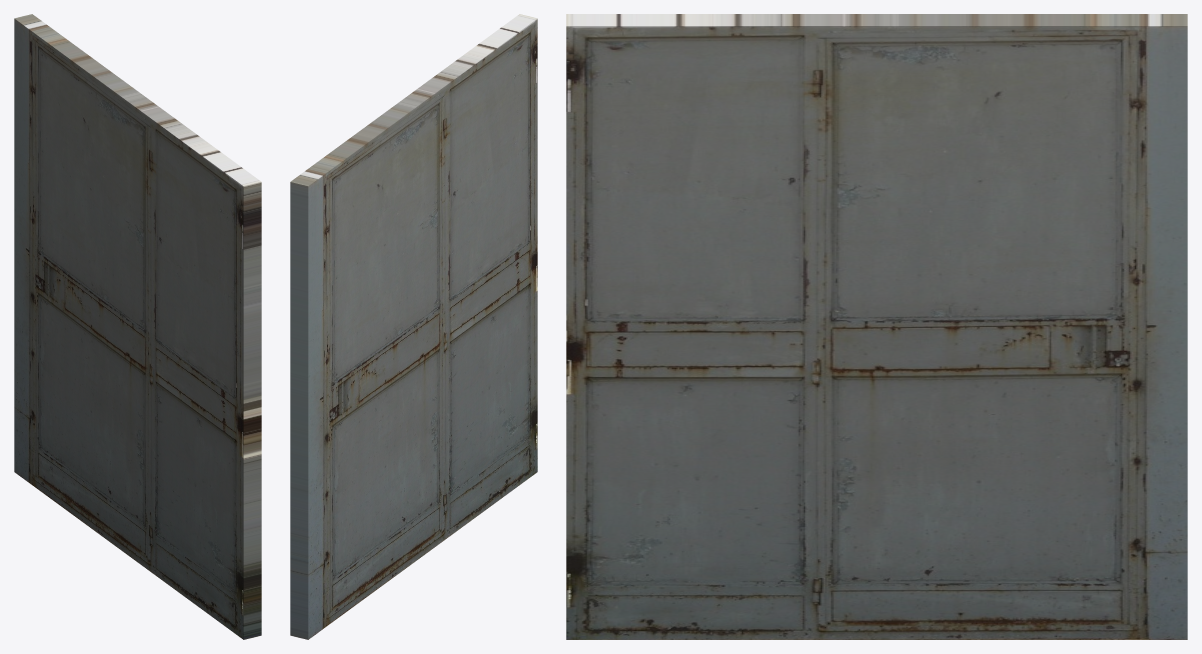
The picture shows the model from 3 angles, left to right: view 1: azimuth 30°, elevation 25°; view 2: azimuth 150°, elevation 25°; view 3: azimuth 270°, elevation 25°; orthographic projection. The views are drawn at different scales.
Parts seen in each view (by area): view 1: Cube_Material004_0; view 2: Cube_Material004_0; view 3: Cube_Material004_0.
Part boxes in pixels (left/top/right/bottom): Cube_Material004_0: left=14, top=14, right=261, bottom=639; Cube_Material004_0: left=290, top=14, right=537, bottom=639; Cube_Material004_0: left=566, top=14, right=1187, bottom=639.
Size of the model in its own units: 0.1 by 2.4 by 2.2.
Materials: 1 (1 with a texture image).
